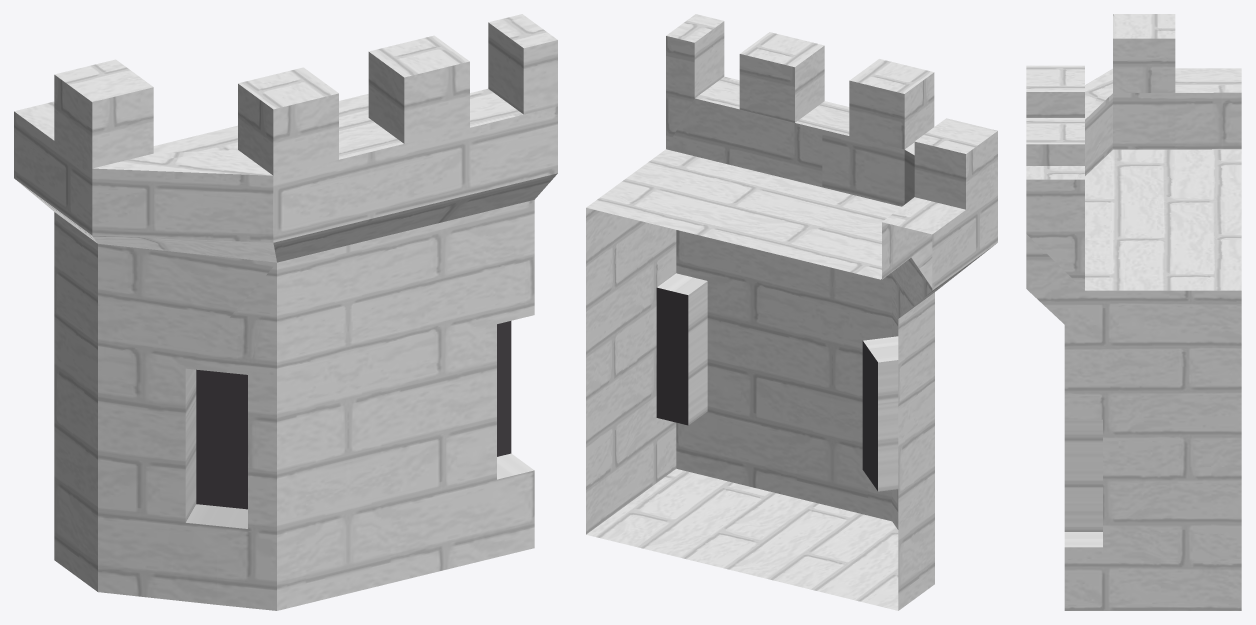
The model's file is castle_type_g.gltf.
3 views of the same model, side by side, from view 1: azimuth 30°, elevation 25°; view 2: azimuth 150°, elevation 25°; view 3: azimuth 270°, elevation 25° (orthographic). The views are drawn at different scales.
Parts seen in each view (by area): view 1: Type_G; view 2: Type_G; view 3: Type_G.
Part boxes in pixels (x1=…): Type_G: x1=14, y1=14, x2=557, y2=610; Type_G: x1=586, y1=14, x2=997, y2=610; Type_G: x1=1026, y1=14, x2=1241, y2=610.
Size of the model in its own units: 1.11 by 1.35 by 0.6085.
2 materials, 1 textured.
